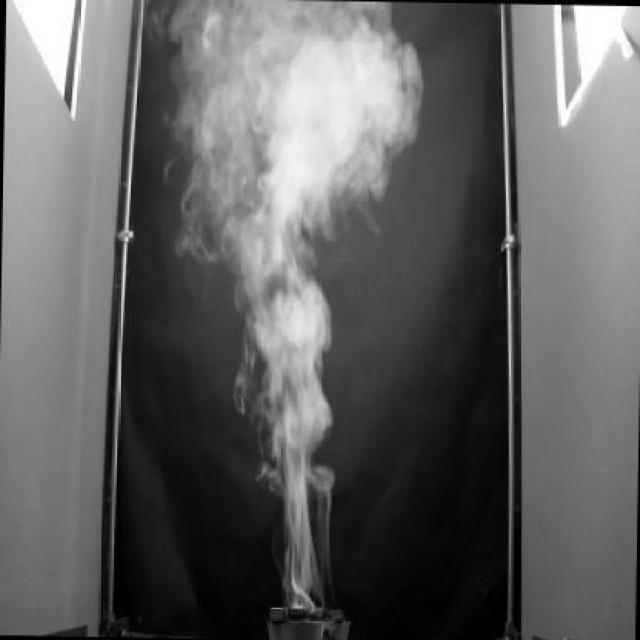fire: (160, 0, 429, 575)
